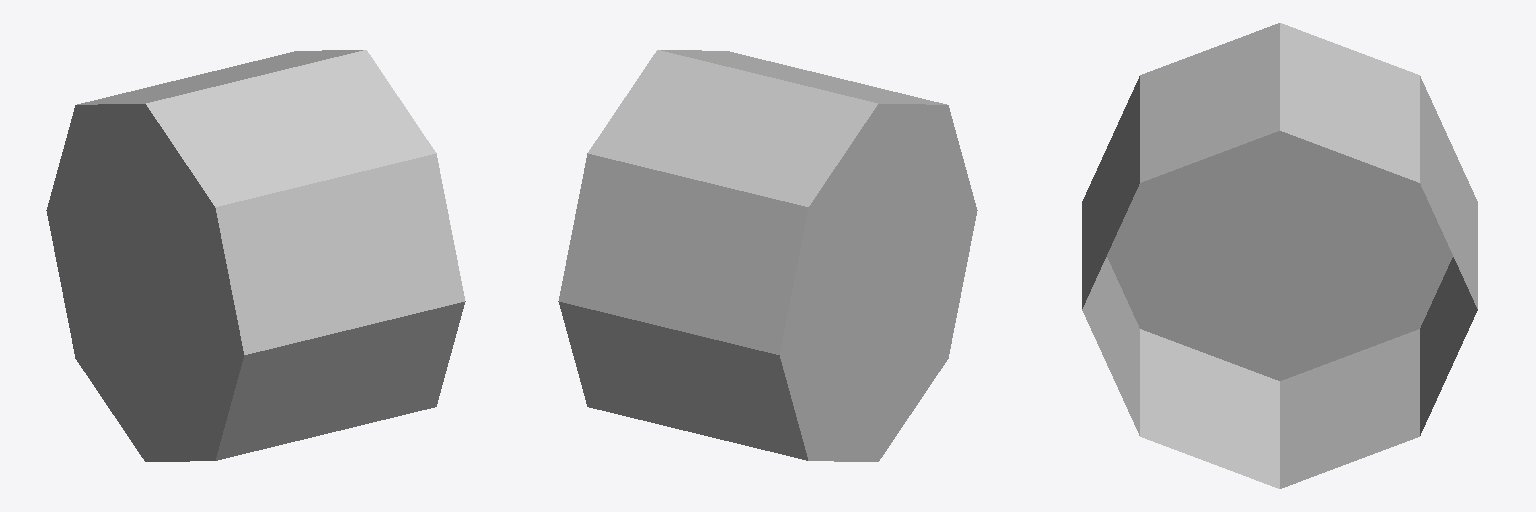
The model's file is WheelFrontR.obj.
3 views of the same model, side by side, from view 1: azimuth 30°, elevation 25°; view 2: azimuth 150°, elevation 25°; view 3: azimuth 270°, elevation 25° (orthographic).
Parts seen in each view (by area): view 1: WheelFrontR; view 2: WheelFrontR; view 3: WheelFrontR.
Part boxes in pixels (x1,y1,x2,y2): WheelFrontR: (46, 50, 465, 461); WheelFrontR: (558, 50, 977, 461); WheelFrontR: (1082, 23, 1477, 488).
Size of the model in its own units: 0.7999 by 1.24 by 1.24.